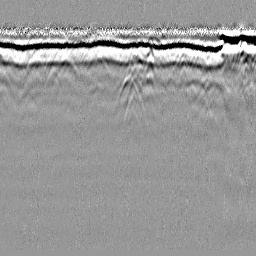cavity: (113, 71, 143, 118)
